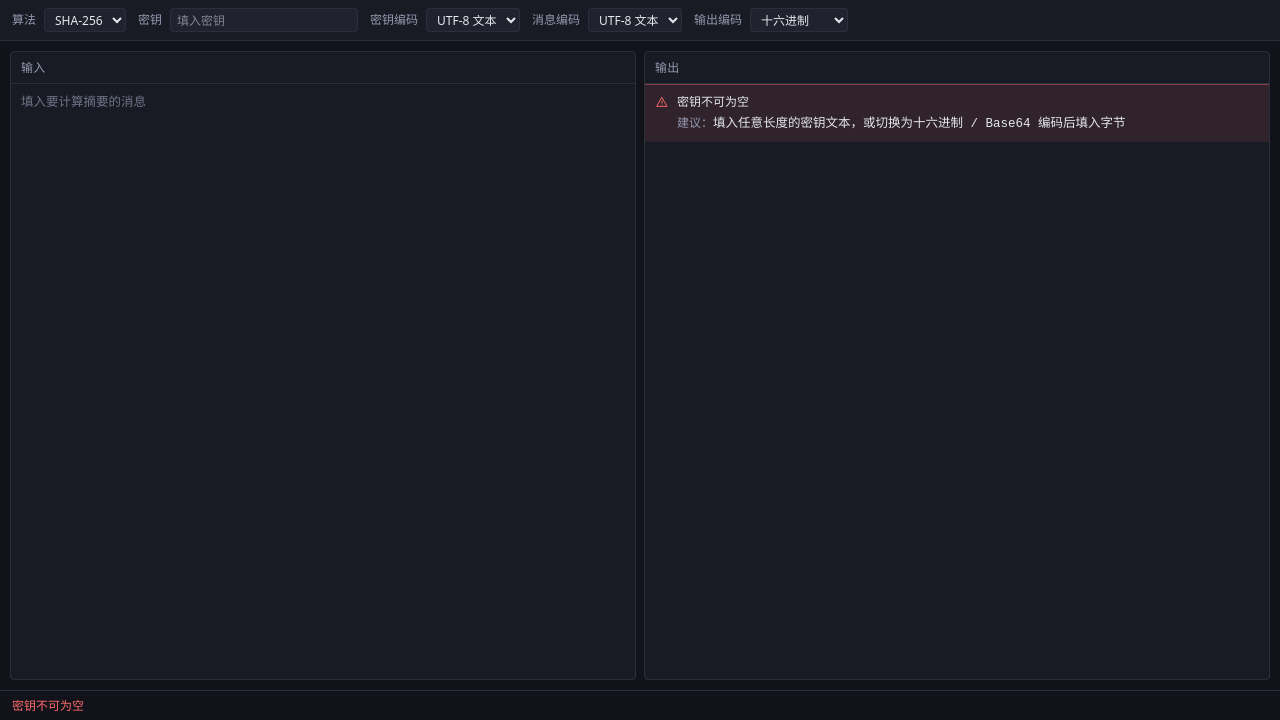
Test: HMAC 生成器 › 切换到 SHA-512 后摘要变长到 128 位
The width and height of the screenshot is (1280, 720).
Type "secret" into the field labelled "密钥" at (264, 20), box [170,8,358,32]
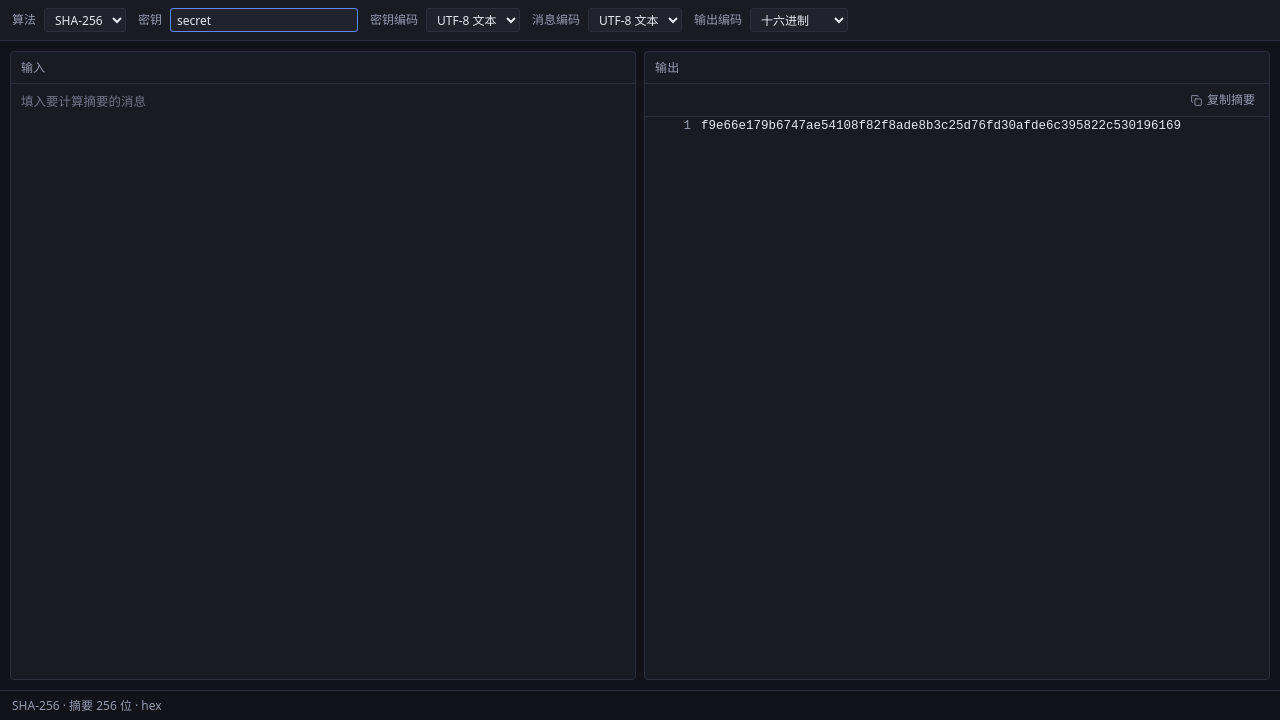
Type "hello" into the text box labelled "消息" at (323, 188), box [11,84,635,292]
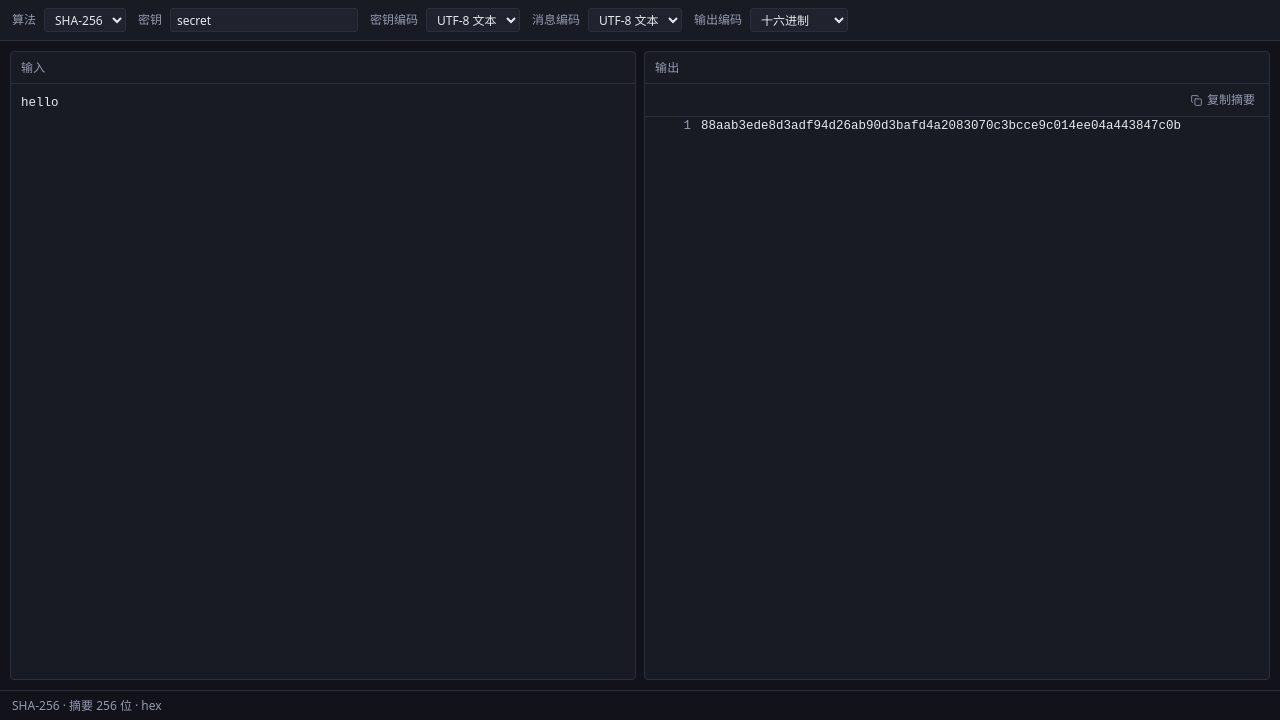
Select "SHA-512" in the dropdown labelled "算法" at (85, 20), box [44,8,126,32]
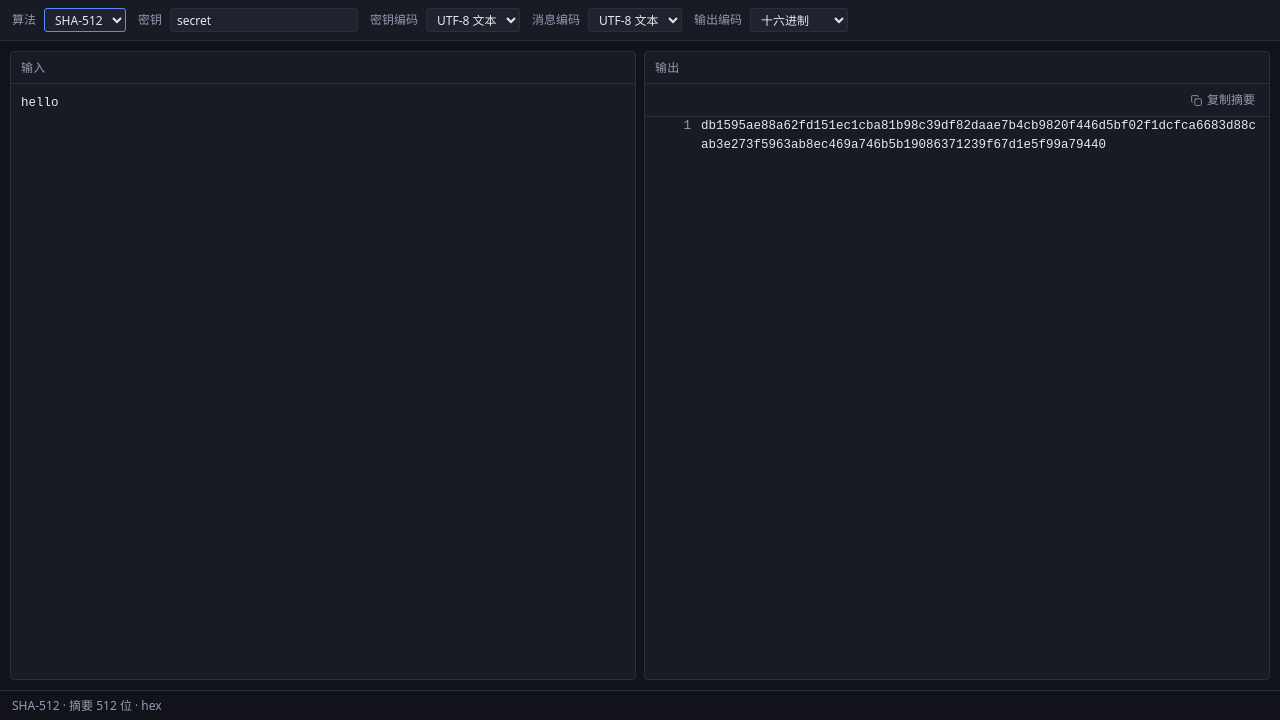
Now the text "SHA-512 · 摘要 512 位 · hex" is shown, box [12,697,162,714]
